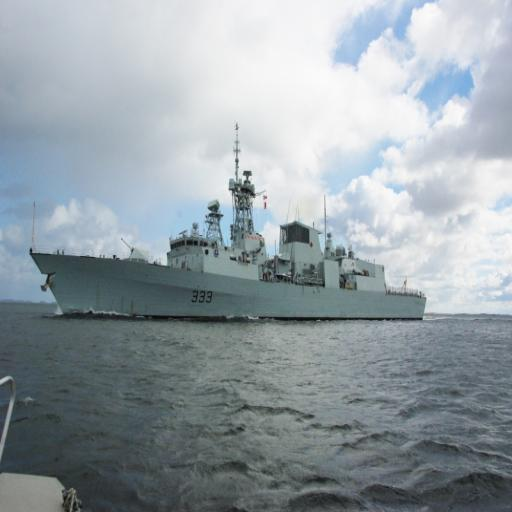Fragata: (27, 117, 431, 325)
